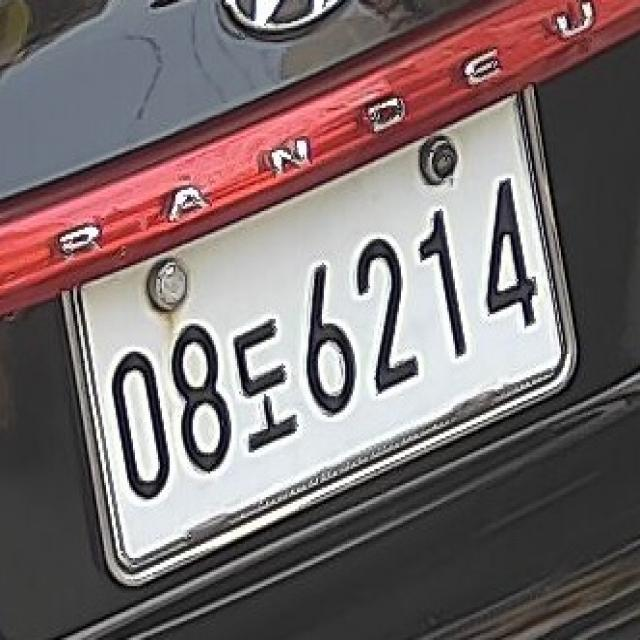0: (102, 337, 179, 513)
1: (408, 204, 481, 371)
2: (342, 220, 436, 413)
4: (456, 166, 552, 355)
6: (280, 245, 369, 446)
8: (158, 311, 243, 488)
do: (221, 305, 311, 482)
license_plate: (42, 66, 602, 616)
